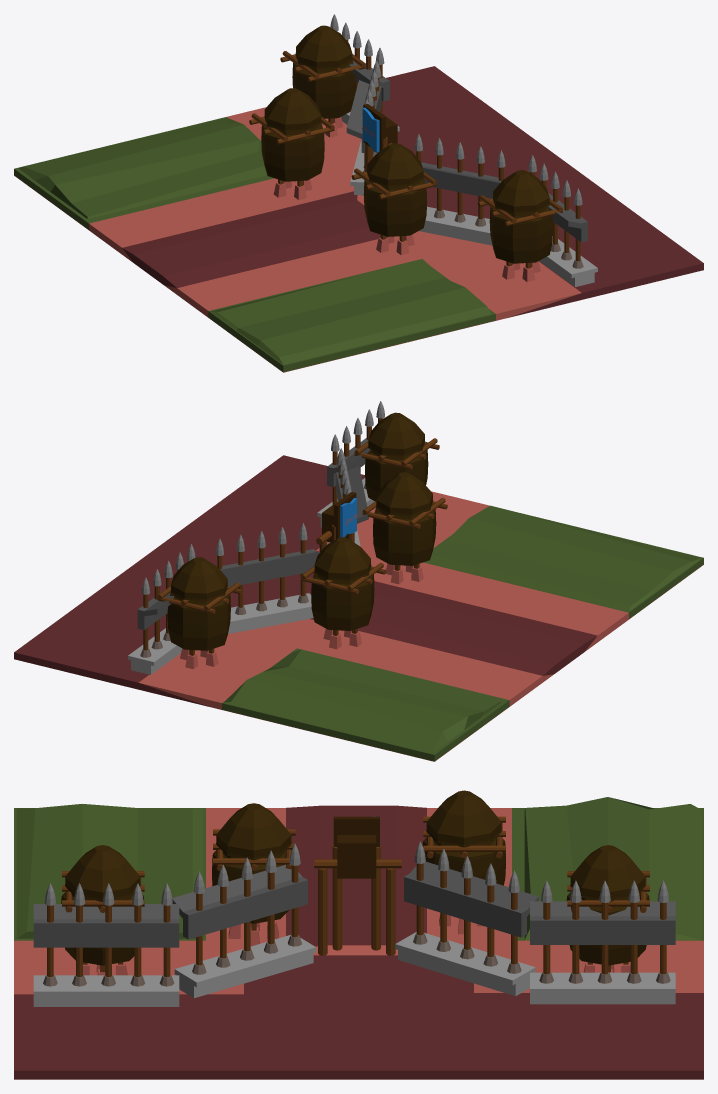
The model's file is uSharka(entrance).fbx.
3 views of the same model, one above another, from view 1: azimuth 30°, elevation 25°; view 2: azimuth 150°, elevation 25°; view 3: azimuth 270°, elevation 25° (orthographic). The views are drawn at different scales.
Parts seen in each view (by area): view 1: uSharka entrance; view 2: uSharka entrance; view 3: uSharka entrance.
Boxes of the visible parts, x1,y1,x2,y2 form: uSharka entrance: (14, 14, 703, 372); uSharka entrance: (14, 401, 703, 761); uSharka entrance: (14, 790, 703, 1079).
Bounding box in the file's own units: 12800 × 3166 × 14200.
